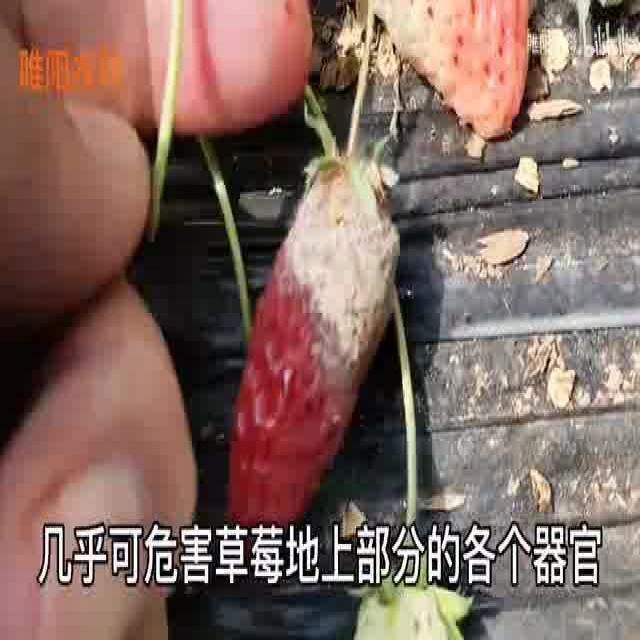Moho gris: (215, 132, 400, 524)
